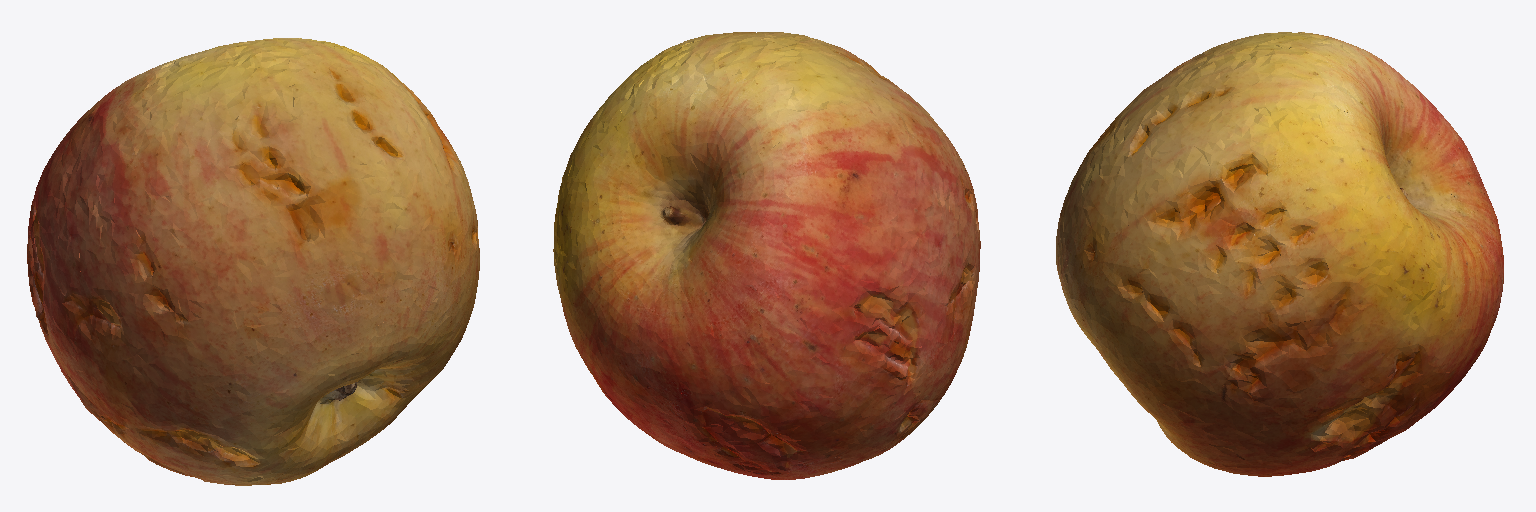
3 renders of one model, left to right at view 1: azimuth 30°, elevation 25°; view 2: azimuth 150°, elevation 25°; view 3: azimuth 270°, elevation 25°, orthographic.
Bounding box in the file's own units: 2.92 × 3.06 × 3.04.
1 materials, 1 textured.